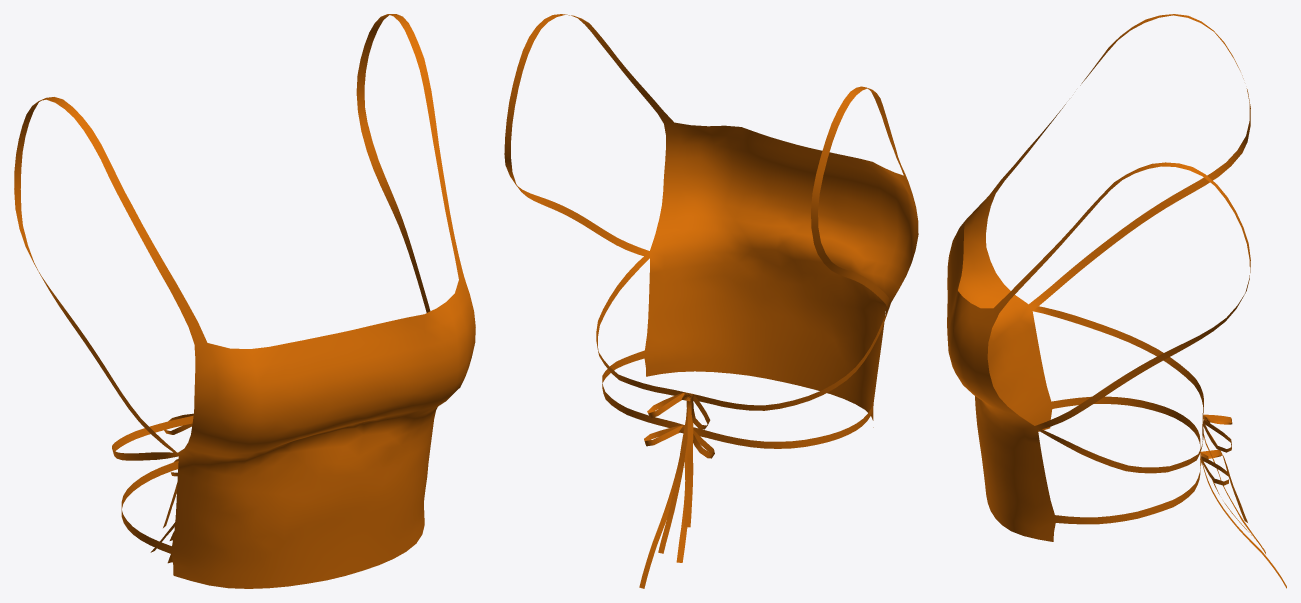
File: topfem3.glb
3 views of the same model, side by side, from view 1: azimuth 30°, elevation 25°; view 2: azimuth 150°, elevation 25°; view 3: azimuth 270°, elevation 25° (orthographic). The views are drawn at different scales.
Visible parts, largest first — view 1: hash_D067EE79.model; view 2: hash_D067EE79.model; view 3: hash_D067EE79.model.
Part boxes in pixels (x1,y1,x2,y2): hash_D067EE79.model: (14, 14, 475, 588); hash_D067EE79.model: (504, 14, 918, 588); hash_D067EE79.model: (947, 14, 1286, 588).
Bounding box in the file's own units: 0.3408 × 0.5069 × 0.314.
